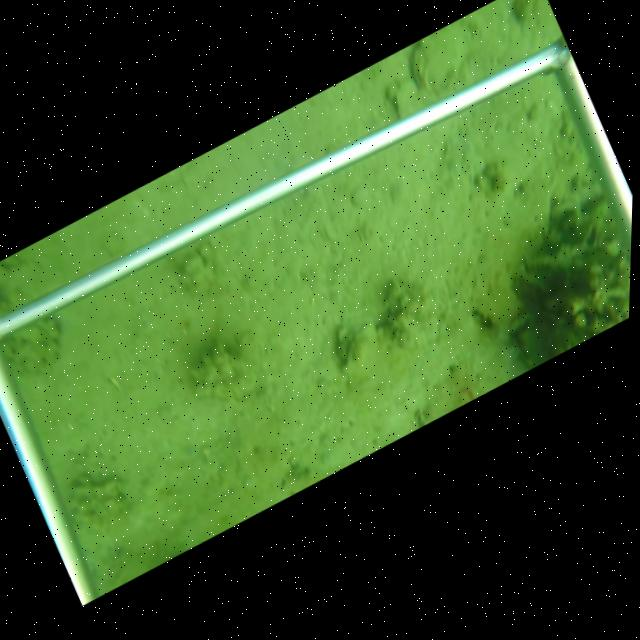Oyster-Closed: (411, 18, 479, 100)
